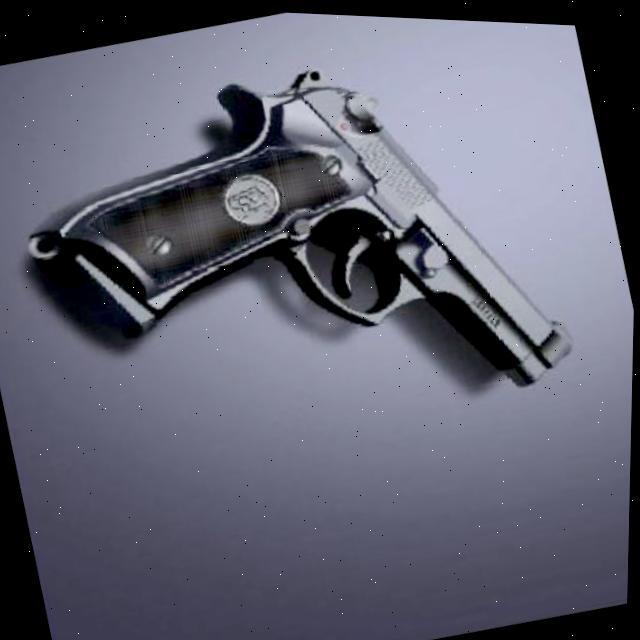gun: (2, 5, 594, 497)
